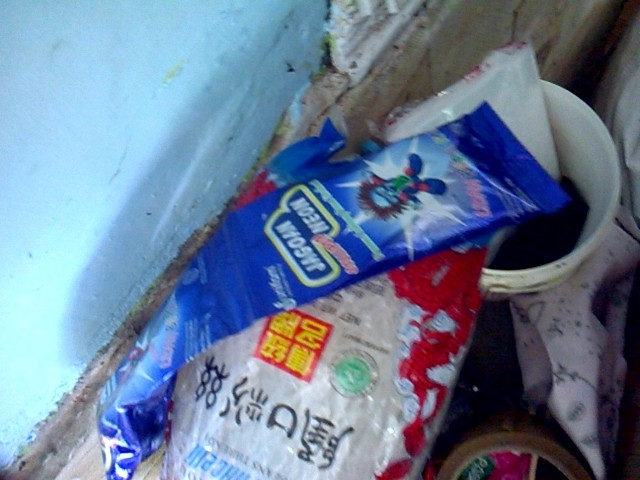jagoan neon: (218, 101, 574, 326)
